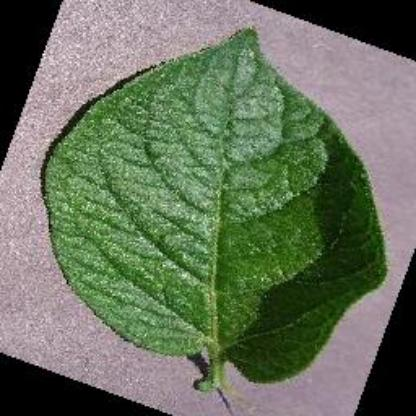Healthy-plant: (44, 26, 388, 390)
